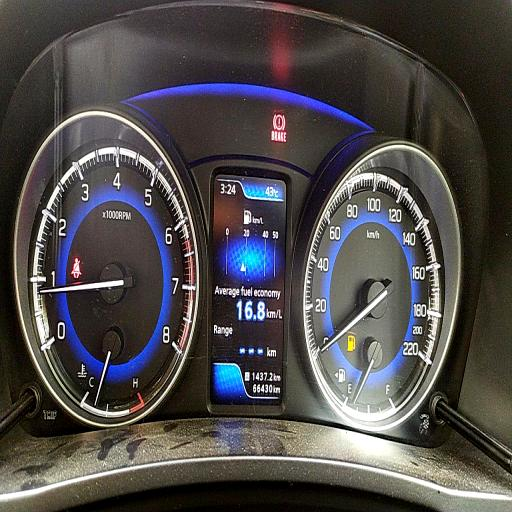belt: (71, 257, 82, 279)
brake_system_fault: (273, 114, 285, 131)
tachometer: (30, 147, 195, 419)
